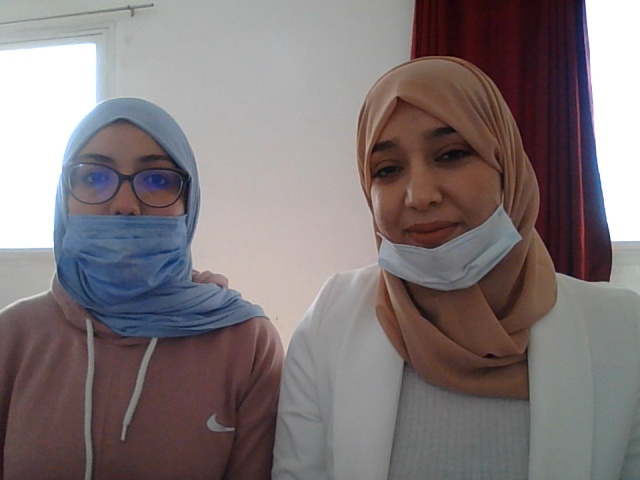mask_weared_incorrect: (319, 81, 544, 294), (64, 91, 226, 343)
